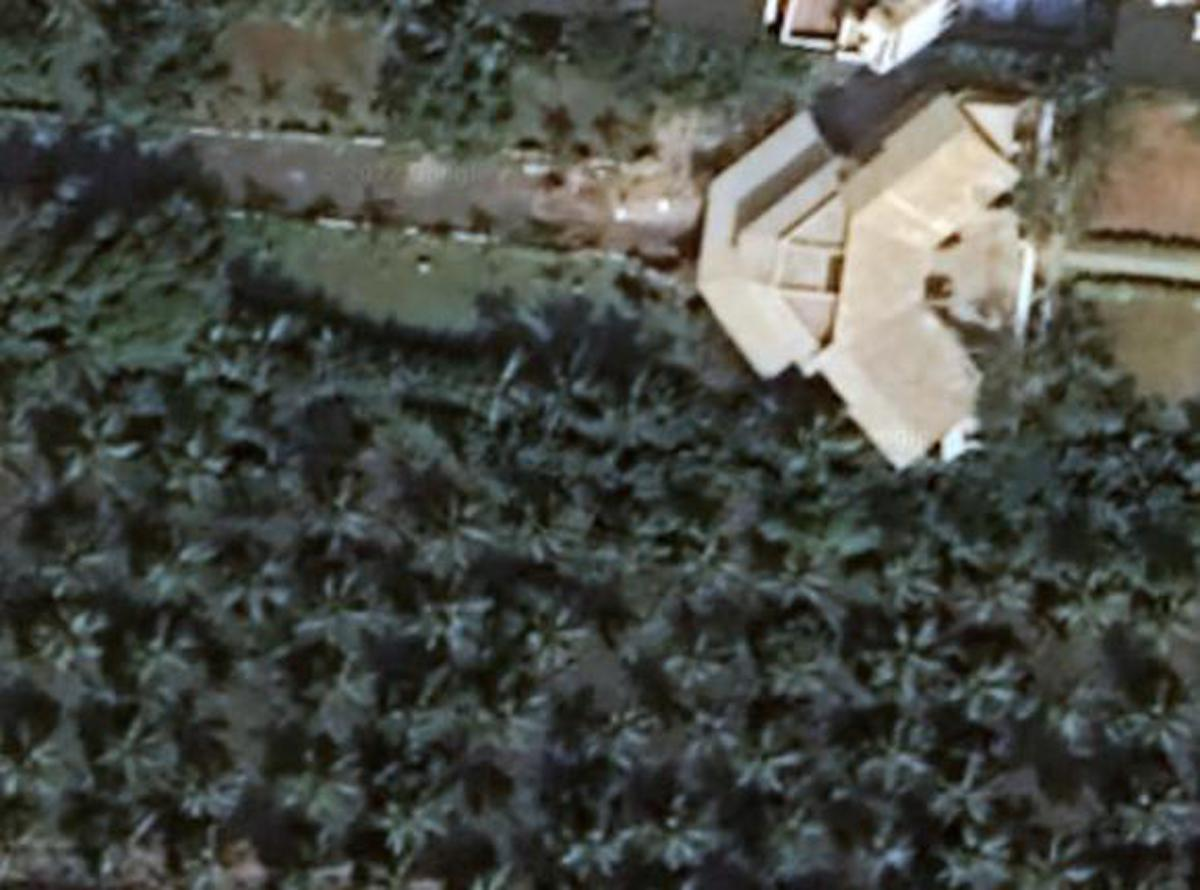coconut: (279, 633, 366, 726), (498, 467, 585, 560), (773, 405, 862, 494), (271, 740, 362, 827), (1106, 664, 1191, 757), (960, 538, 1048, 627), (302, 554, 388, 645), (862, 608, 951, 695), (560, 701, 655, 782), (384, 670, 471, 757), (614, 366, 701, 453), (866, 527, 955, 610), (124, 523, 215, 604), (715, 709, 800, 794), (84, 701, 167, 788), (403, 573, 484, 662), (587, 496, 676, 577), (289, 471, 382, 548), (544, 796, 628, 879), (372, 772, 457, 854), (953, 639, 1036, 722), (217, 540, 300, 623), (1100, 767, 1187, 846), (513, 587, 600, 666), (117, 612, 208, 687), (1123, 562, 1197, 654), (540, 353, 620, 438), (60, 407, 142, 488), (926, 743, 1009, 823), (0, 716, 72, 805), (1048, 554, 1127, 635), (173, 745, 254, 823), (409, 484, 490, 562), (757, 625, 835, 705), (74, 807, 155, 883), (641, 796, 720, 873), (471, 678, 550, 755), (33, 598, 113, 674), (852, 712, 931, 788), (840, 815, 920, 890), (660, 616, 730, 701), (161, 428, 237, 505), (924, 823, 1011, 890), (759, 536, 833, 614), (742, 807, 823, 877), (459, 339, 535, 413), (37, 529, 115, 600), (448, 80, 523, 153), (461, 18, 535, 91), (1024, 819, 1098, 890), (682, 521, 746, 602), (175, 834, 266, 890), (217, 633, 293, 699), (300, 68, 364, 136), (384, 60, 444, 130), (277, 836, 349, 890), (235, 62, 293, 126)
